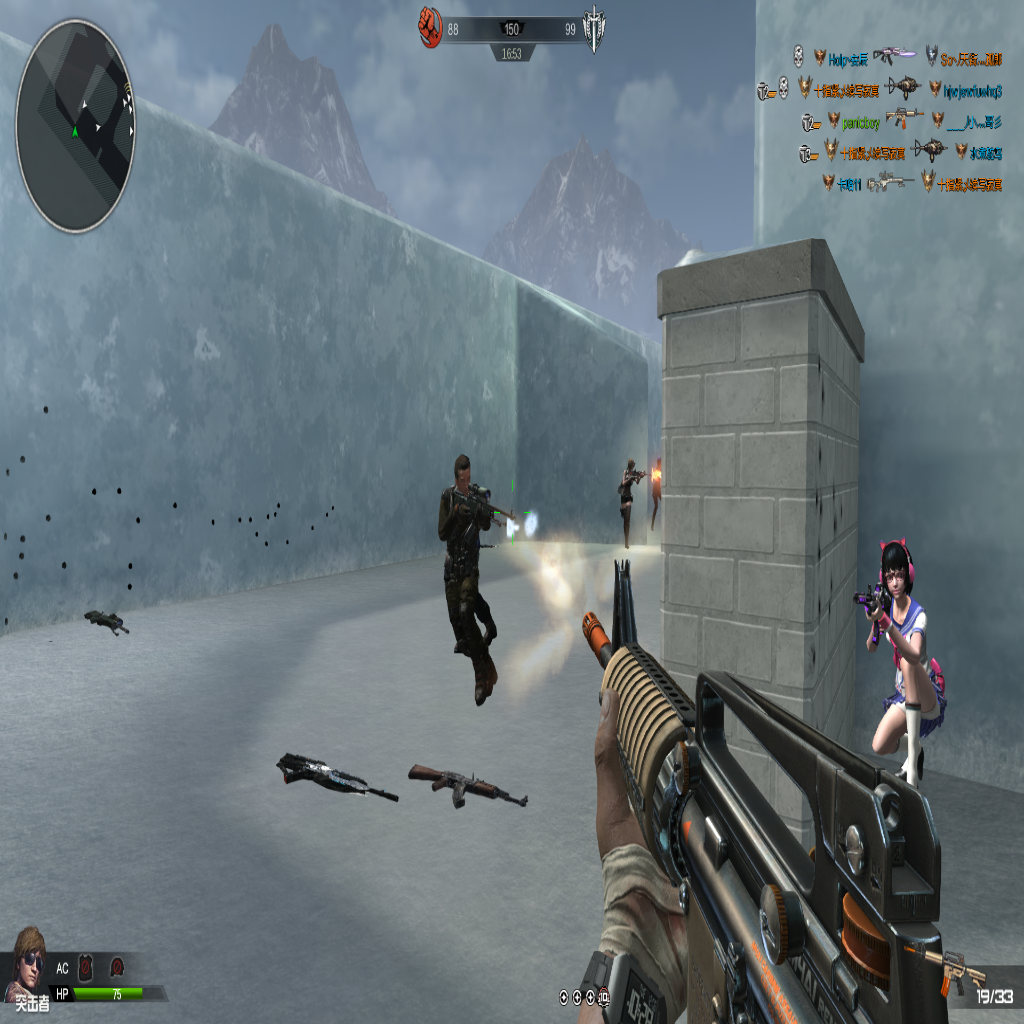ct: (439, 454, 511, 706), (618, 454, 645, 549)
